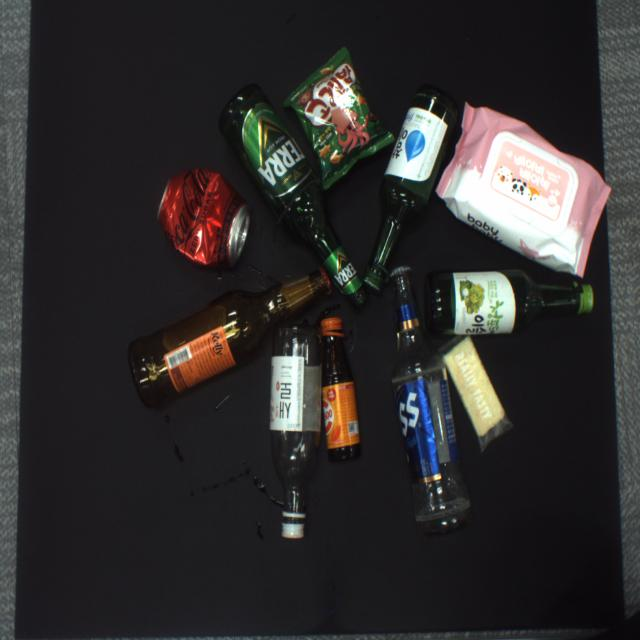beer-bottle: (218, 85, 368, 307), (129, 267, 333, 408), (388, 262, 471, 532)
soju-bottle: (362, 86, 458, 291), (426, 270, 594, 337), (270, 328, 323, 540)
